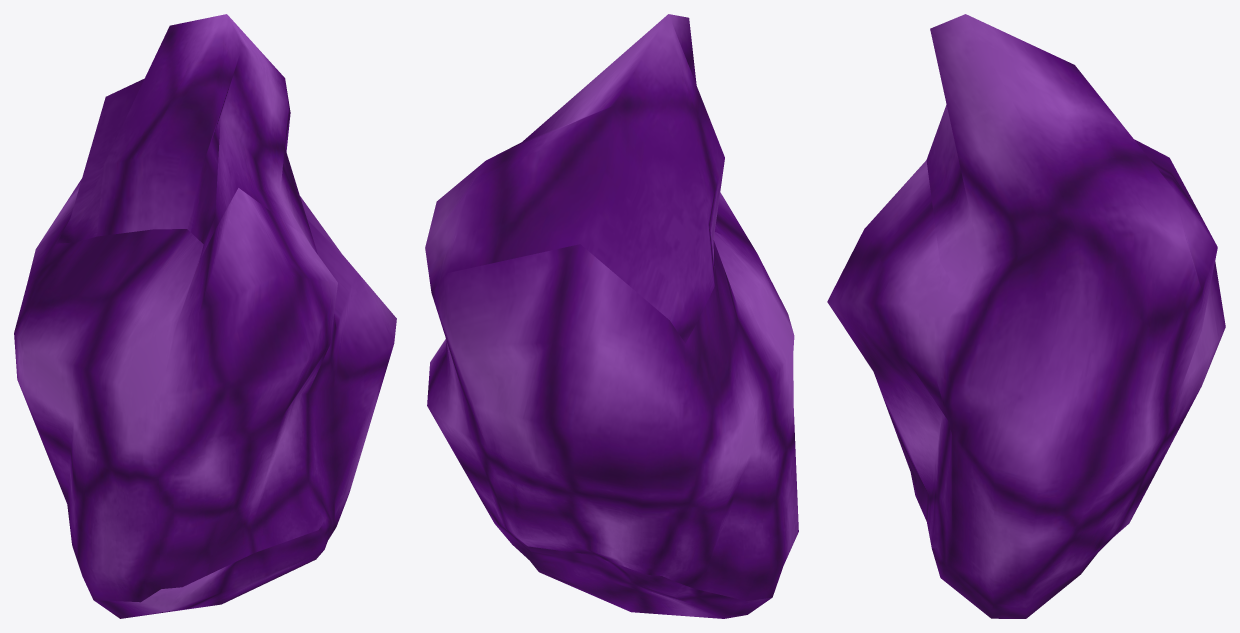
Rendered from rechargeCrystal.glb.
3 views of the same model, side by side, from view 1: azimuth 30°, elevation 25°; view 2: azimuth 150°, elevation 25°; view 3: azimuth 270°, elevation 25° (orthographic). The views are drawn at different scales.
Parts seen in each view (by area): view 1: Purple; view 2: Purple; view 3: Purple.
Boxes of the visible parts, x1,y1,x2,y2 form: Purple: (14,14,396,618); Purple: (425,14,798,618); Purple: (827,14,1225,618).
Bounding box in the file's own units: 1.15 × 1.91 × 1.2.
Materials: 1 (1 with a texture image).
